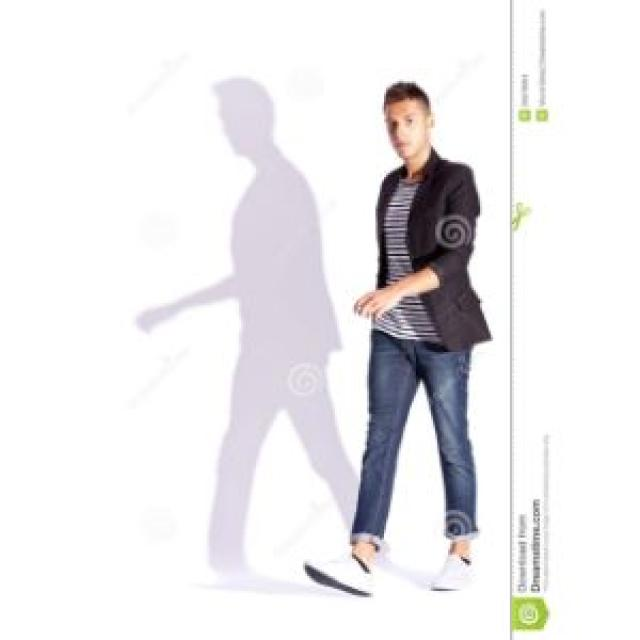nonfall: (306, 61, 494, 607)
